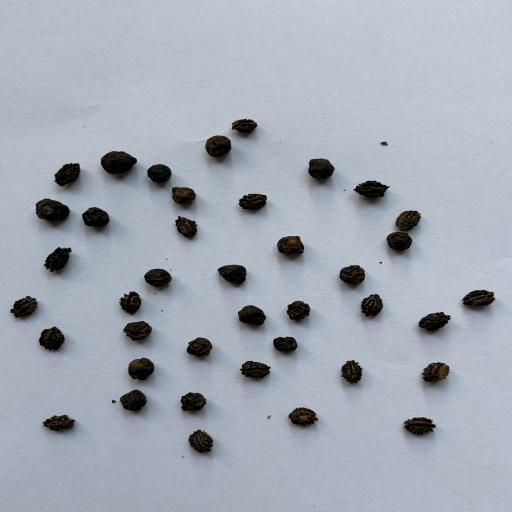Black_pepper: (268, 228, 318, 268), (295, 155, 340, 199), (172, 386, 220, 420), (24, 190, 72, 222), (374, 232, 426, 259), (210, 256, 250, 290), (332, 257, 372, 290), (230, 300, 274, 330), (270, 332, 308, 365), (176, 332, 222, 359), (201, 135, 242, 162), (98, 147, 138, 174), (124, 353, 160, 383), (117, 318, 155, 344), (78, 203, 112, 232), (142, 266, 178, 292), (118, 386, 153, 412), (141, 161, 177, 186), (286, 298, 316, 325), (166, 181, 199, 203)
papaya_seed: (458, 286, 505, 330), (386, 414, 446, 444), (277, 403, 335, 432), (231, 187, 280, 221), (31, 404, 81, 437), (28, 322, 80, 352), (332, 352, 377, 386), (34, 243, 80, 273), (345, 172, 390, 202), (417, 356, 462, 386), (416, 303, 454, 337), (6, 292, 50, 320), (46, 158, 85, 188), (392, 198, 424, 232), (359, 290, 391, 323), (188, 424, 221, 456), (171, 215, 209, 240), (238, 356, 273, 383), (115, 291, 150, 316), (227, 120, 265, 134)
